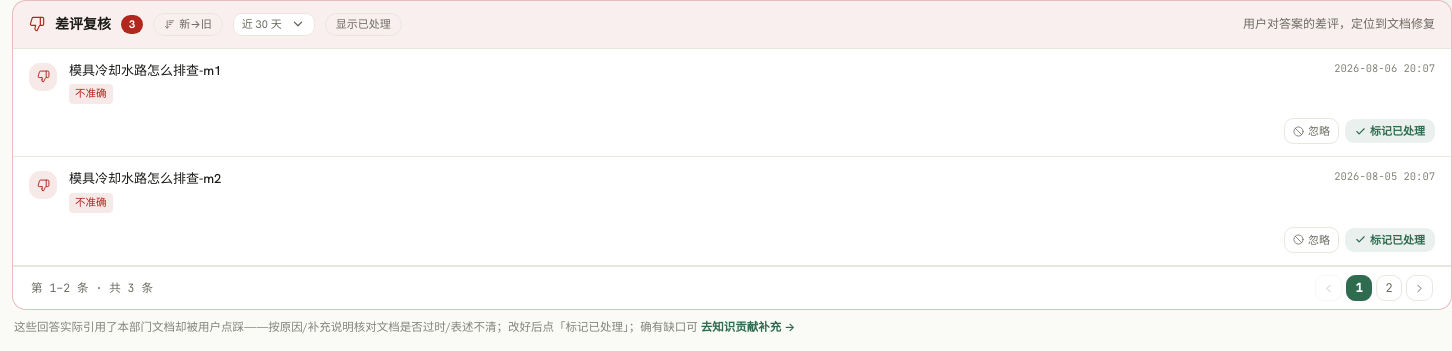
Test: FeedbackReviewList — 红头卡 + 时间范围 + 分页/排序（设计稿 2026-07-19 §1/§2/§4） › 分页：3 条 → 2 条/页；默认新→旧；排序切换回第 1 页
Check: the text "模具冷却水路怎么排查-m3" is not shown
Check: the text with test id "pager-info" reads "第 1–2 条 · 共 3 条", box [31, 280, 153, 295]
Click the button named "下一页".
click(1420, 288)  # box [1406, 275, 1433, 301]
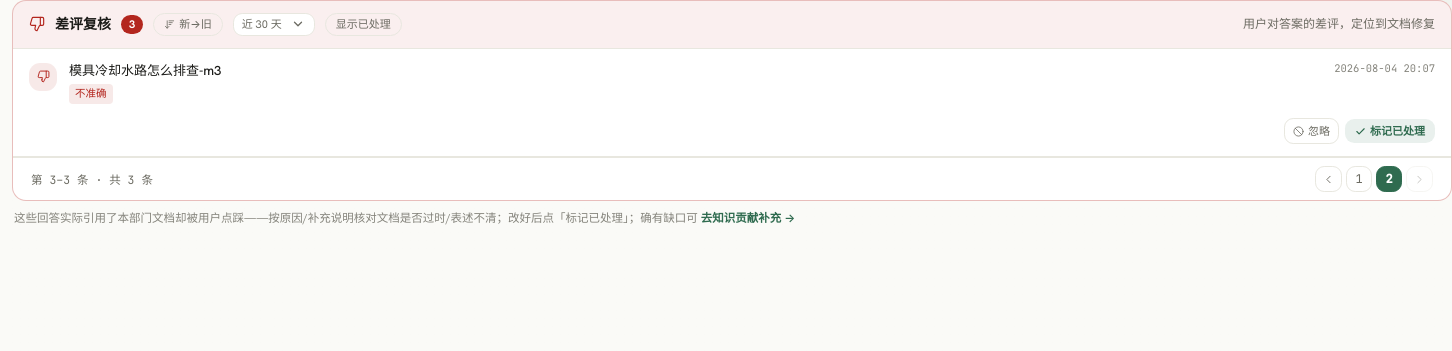
Check: the text "模具冷却水路怎么排查-m3" is shown, box [69, 62, 221, 78]
// 排序切旧→新 → 回第 1 页，最旧在前
Click the button with test id "queue-sort".
click(188, 24)  # box [153, 13, 223, 36]
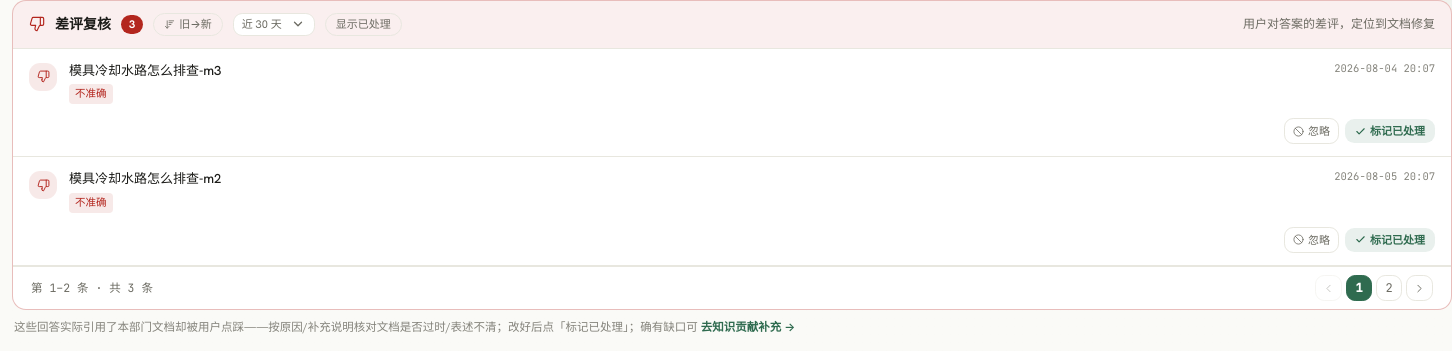
Check: the text "模具冷却水路怎么排查-m1" is not shown
Check: the text "模具冷却水路怎么排查-m3" is shown, box [69, 62, 221, 78]
Check: the button with test id "queue-sort" reads "旧→新", box [153, 13, 223, 36]
